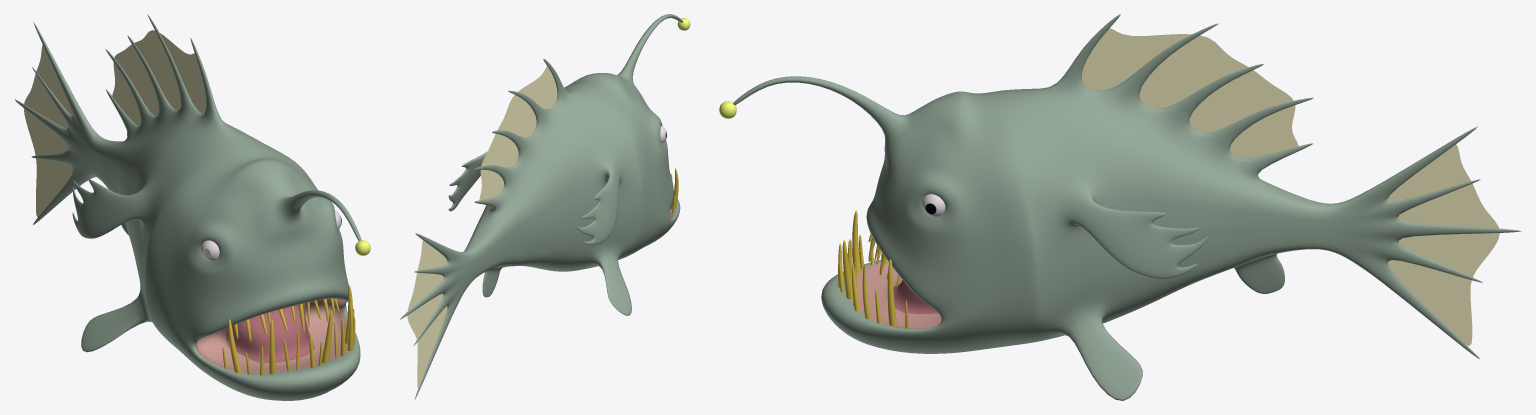
File: ryibafinal(1).fbx
3 views of the same model, side by side, from view 1: azimuth 30°, elevation 25°; view 2: azimuth 150°, elevation 25°; view 3: azimuth 270°, elevation 25° (orthographic). The views are drawn at different scales.
Visible parts, largest first — view 1: Body, Webbing, Teeth_Bottom, Teeth_Top; view 2: Body, Webbing; view 3: Body, Webbing, Teeth_Bottom.
Boxes of the visible parts, <box> form: Body: <box>14,14,361,400</box>; Webbing: <box>23,30,206,217</box>; Teeth_Bottom: <box>222,285,355,375</box>; Teeth_Top: <box>234,298,339,342</box>; Body: <box>400,14,682,399</box>; Webbing: <box>407,66,557,387</box>; Body: <box>733,14,1521,400</box>; Webbing: <box>1081,28,1499,345</box>; Teeth_Bottom: <box>838,210,908,328</box>.
Size of the model in its own units: 851 by 1160 by 2440.
